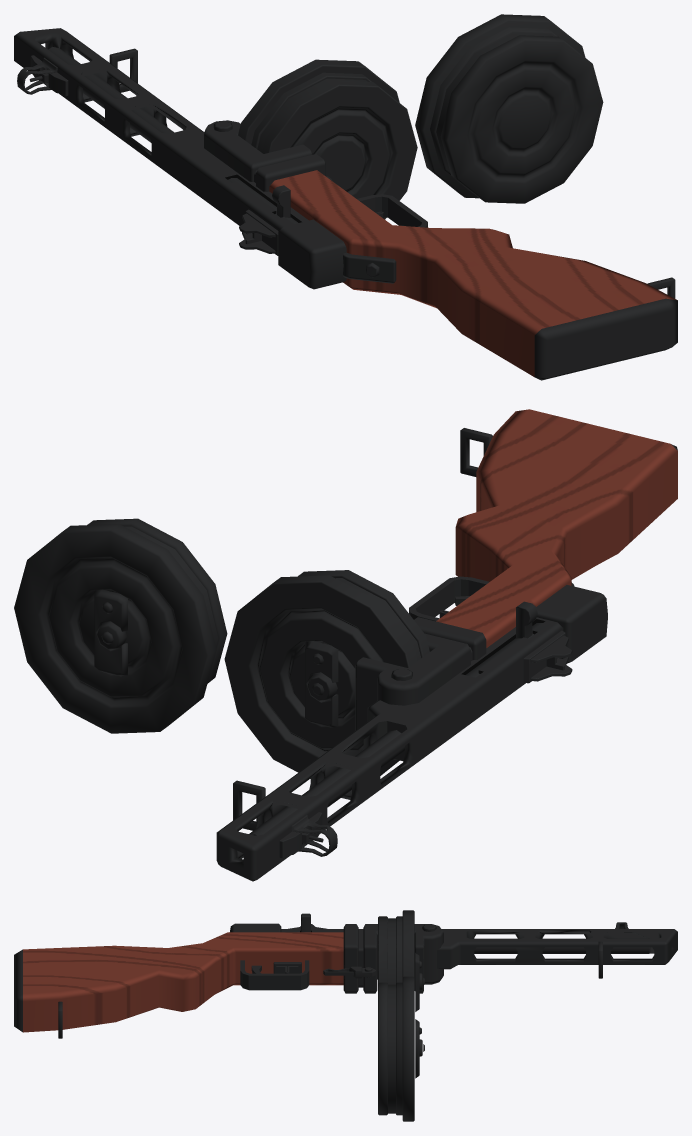
Rendered from marina.glb.
3 renders of one model, top to bottom at view 1: azimuth 30°, elevation 25°; view 2: azimuth 150°, elevation 25°; view 3: azimuth 270°, elevation 25°, orthographic. The views are drawn at different scales.
Visible parts, largest first — view 1: Marina_Original_Weapon; view 2: Marina_Original_Weapon; view 3: Marina_Original_Weapon.
Part boxes in pixels (bbox=[...]): Marina_Original_Weapon: bbox=[14, 14, 677, 380]; Marina_Original_Weapon: bbox=[14, 409, 677, 881]; Marina_Original_Weapon: bbox=[14, 910, 677, 1121].
Bounding box in the file's own units: 0.2936 × 0.1188 × 0.5423.
1 material, 1 textured.
